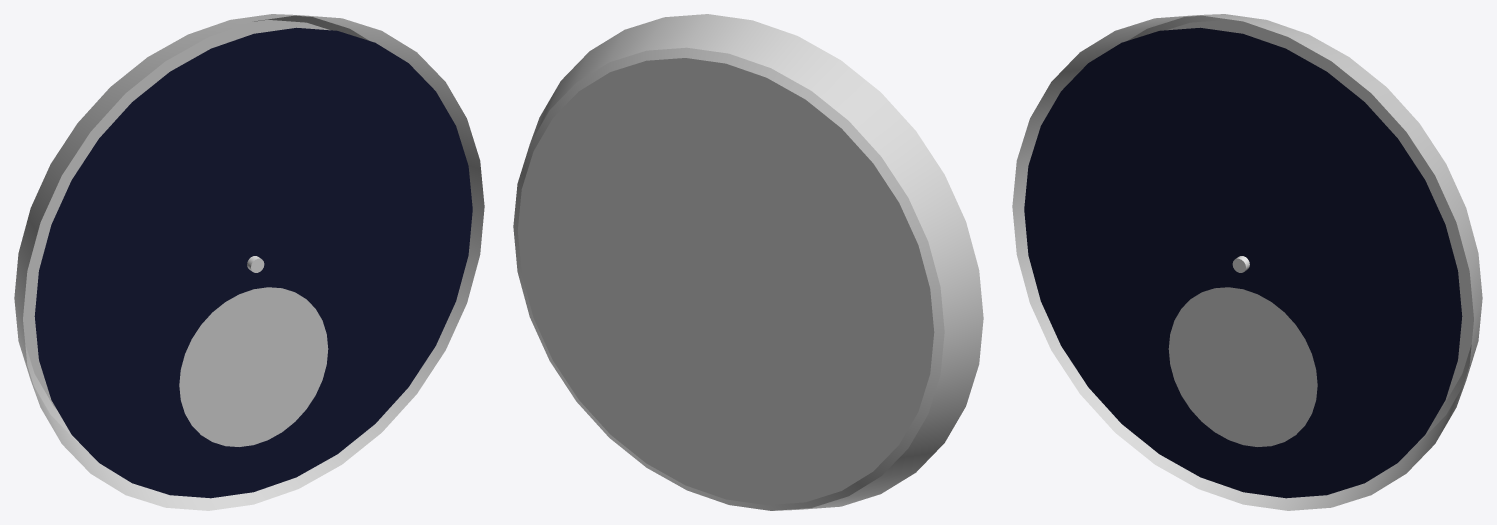
Rendered from watch-06-a.glb.
The picture shows the model from 3 angles, left to right: view 1: azimuth 30°, elevation 25°; view 2: azimuth 150°, elevation 25°; view 3: azimuth 330°, elevation 25°; orthographic projection.
Visible parts, largest first — view 1: Circle.002, Circle; view 2: Circle; view 3: Circle.002, Circle.
Part boxes in pixels (x1,y1,x2,y2): Circle.002: (34, 27, 472, 498); Circle: (14, 14, 484, 510); Circle: (513, 14, 983, 510); Circle.002: (1024, 27, 1462, 498); Circle: (1012, 14, 1482, 510).
Size of the model in its own units: 2.14 by 2.14 by 0.2463.
